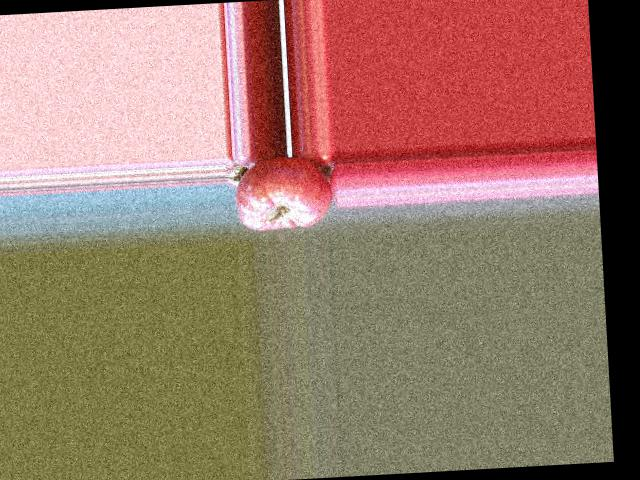tomato: (233, 154, 335, 231)
